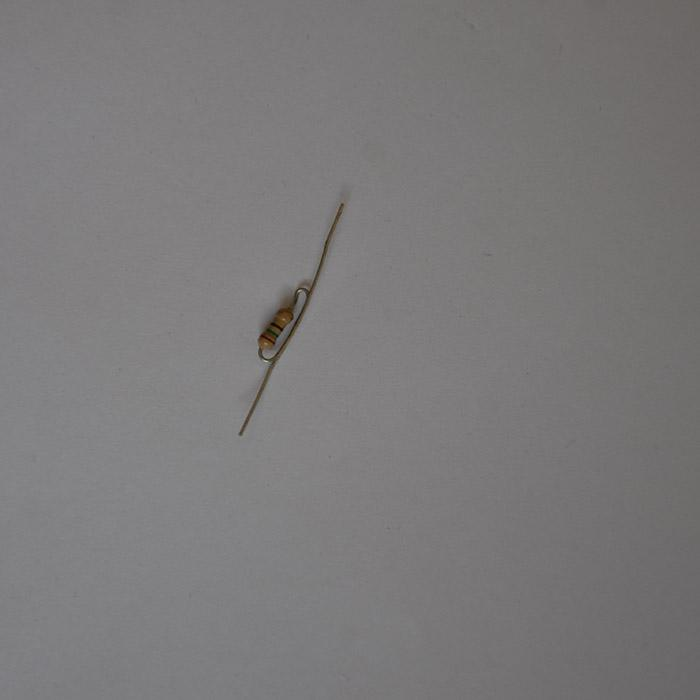resistor: (257, 305, 295, 351)
